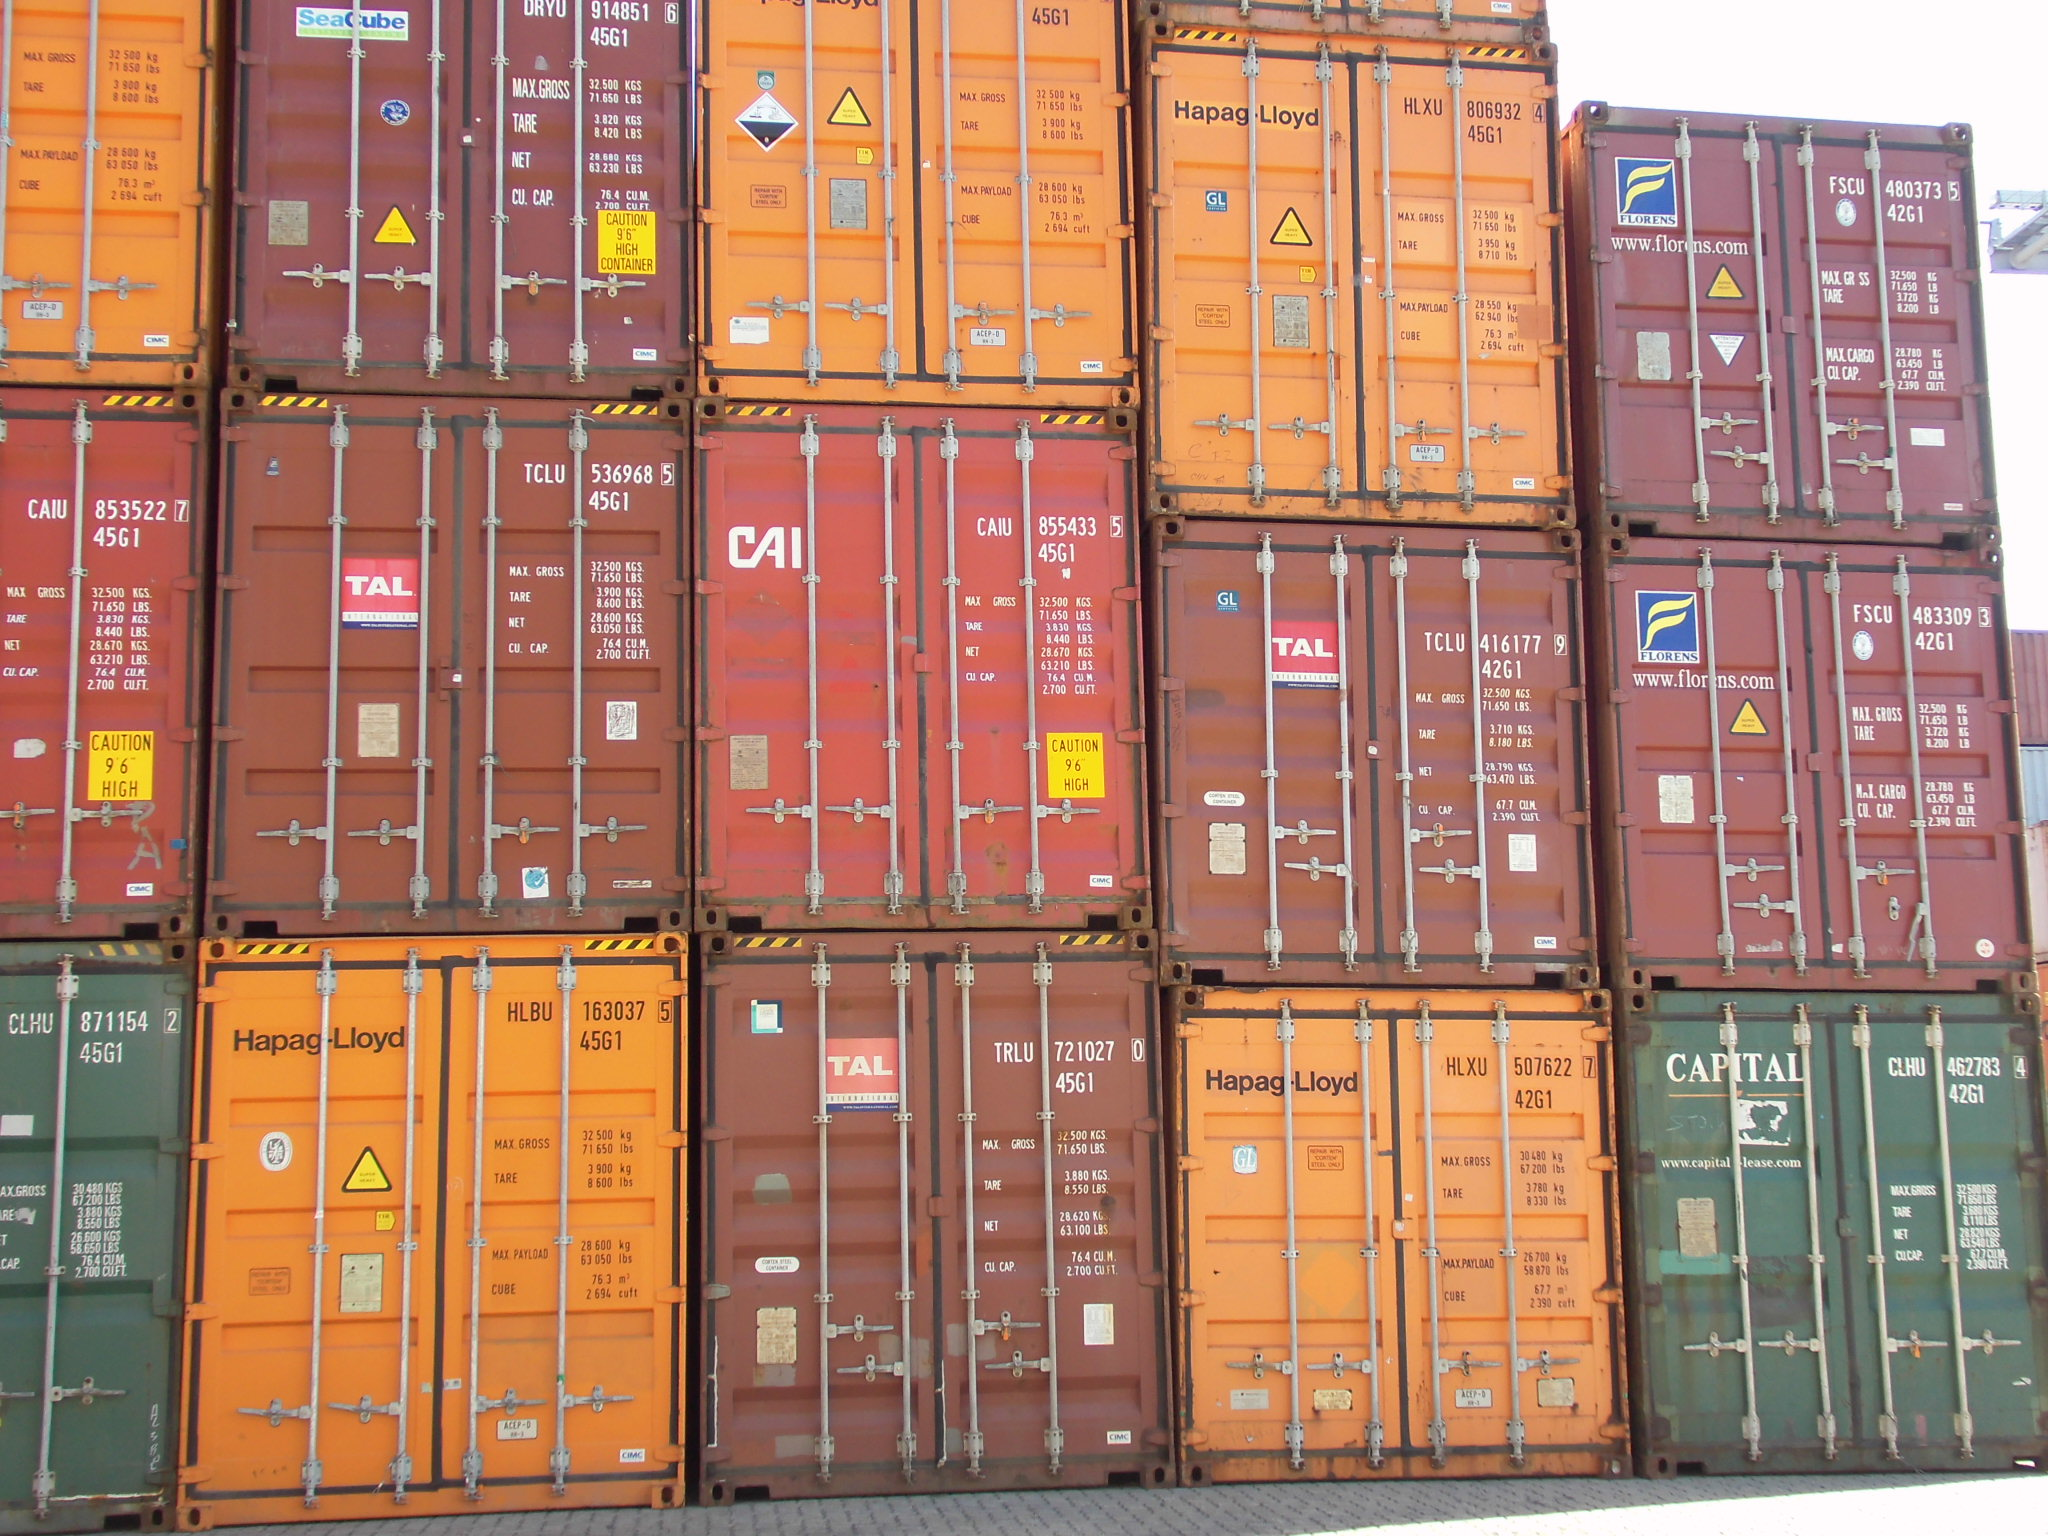container_door: (205, 941, 672, 1509), (710, 950, 1150, 1471), (229, 390, 668, 912), (701, 419, 1140, 941), (1168, 966, 1606, 1488), (1156, 11, 1553, 528), (1163, 524, 1609, 971), (1629, 997, 2046, 1460), (1577, 116, 1979, 560), (1616, 536, 2017, 979), (716, 2, 1121, 402), (248, 8, 685, 371)
